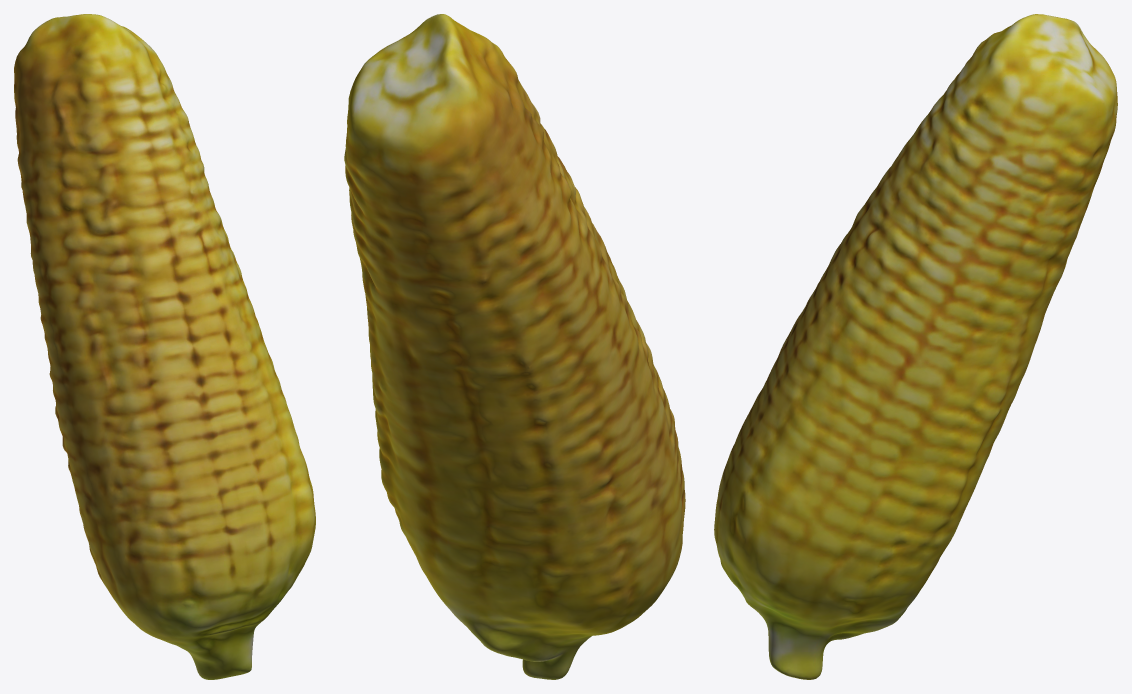
The model's file is 7fae7eb50dd5_an_ear_of_corn__3d_.obj.
The picture shows the model from 3 angles, left to right: view 1: azimuth 30°, elevation 25°; view 2: azimuth 150°, elevation 25°; view 3: azimuth 270°, elevation 25°; orthographic projection. The views are drawn at different scales.
Visible parts, largest first — view 1: high_poly; view 2: high_poly; view 3: high_poly.
Boxes of the visible parts, x1,y1,x2,y2 form: high_poly: (14, 14, 315, 679); high_poly: (344, 14, 685, 679); high_poly: (714, 14, 1117, 679).
Size of the model in its own units: 0.3462 by 1 by 0.5678.
Materials: 1 (1 with a texture image).
